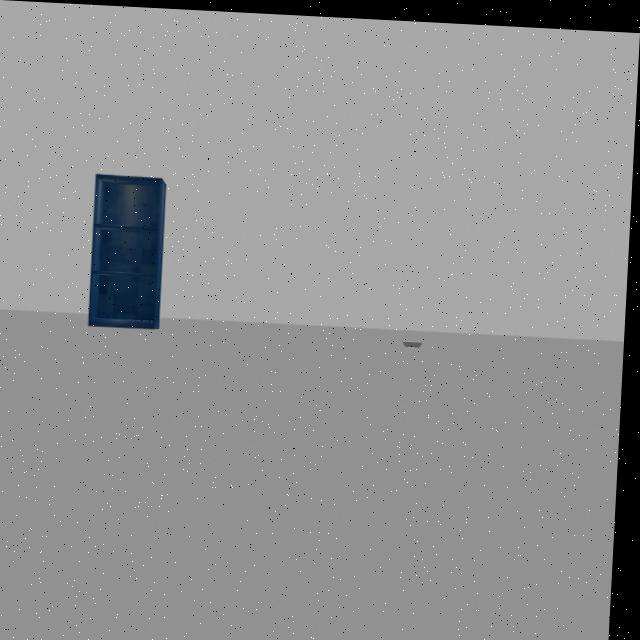bowl: (403, 331, 431, 352)
shelf: (82, 160, 174, 333)
